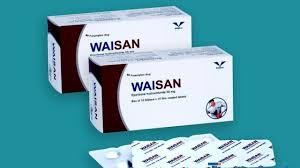Waisan: (87, 39, 142, 52), (129, 79, 182, 90)
